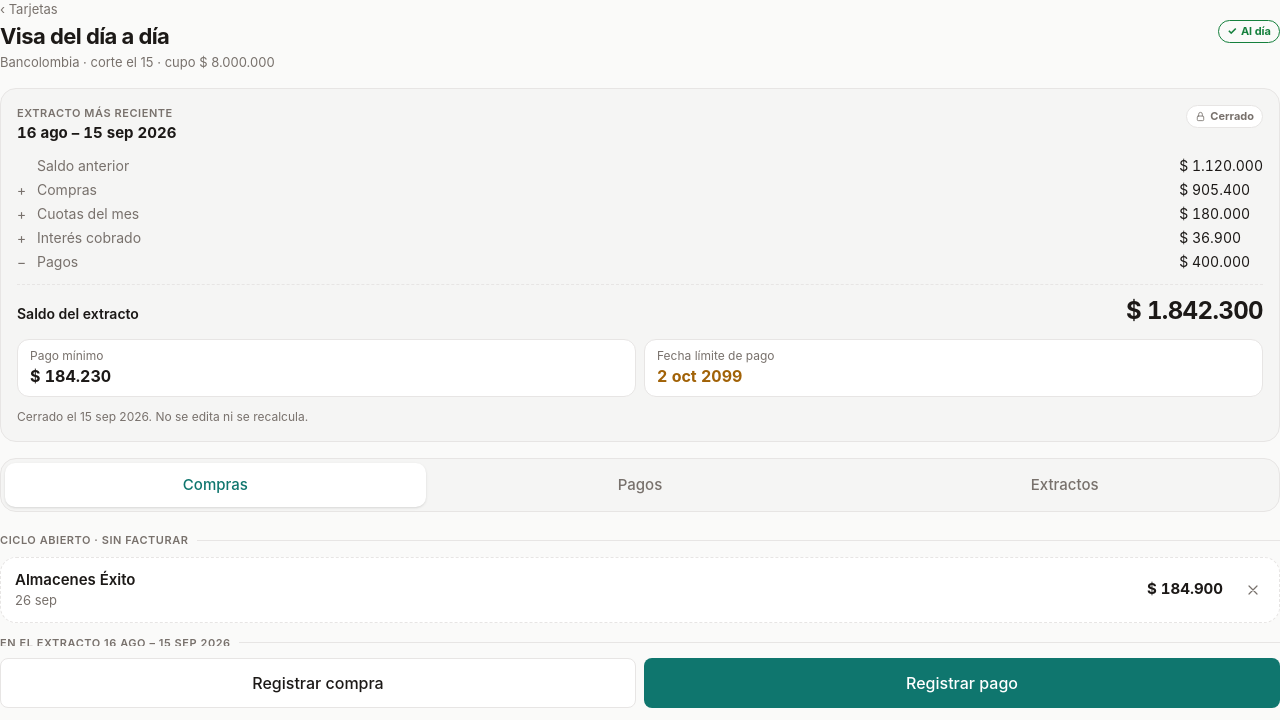
Scenario: CardDetailPage › switches to statements from the billed sheet and closes it
The image size is (1280, 720).
Click the button named "Borrar compra Almacenes Éxito".
click(1253, 590)  # box [1231,568,1275,612]
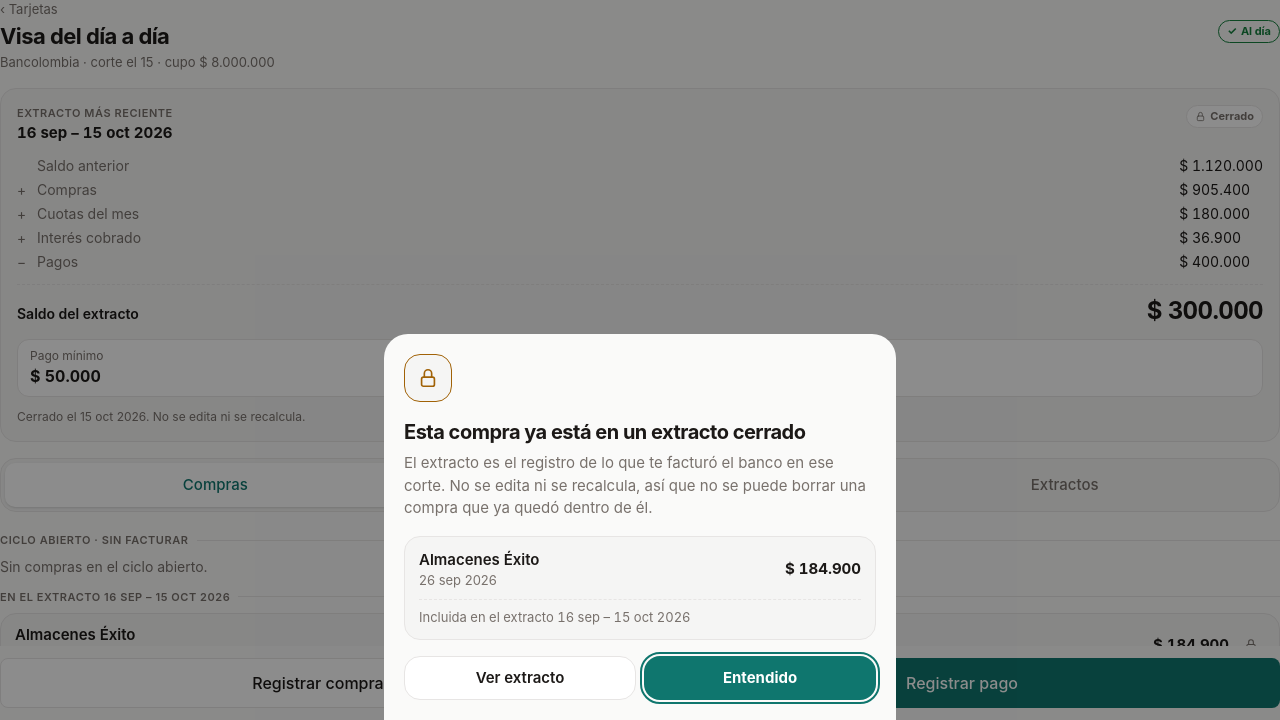
Click the button "Ver extracto".
click(520, 678)  # box [404,656,636,700]
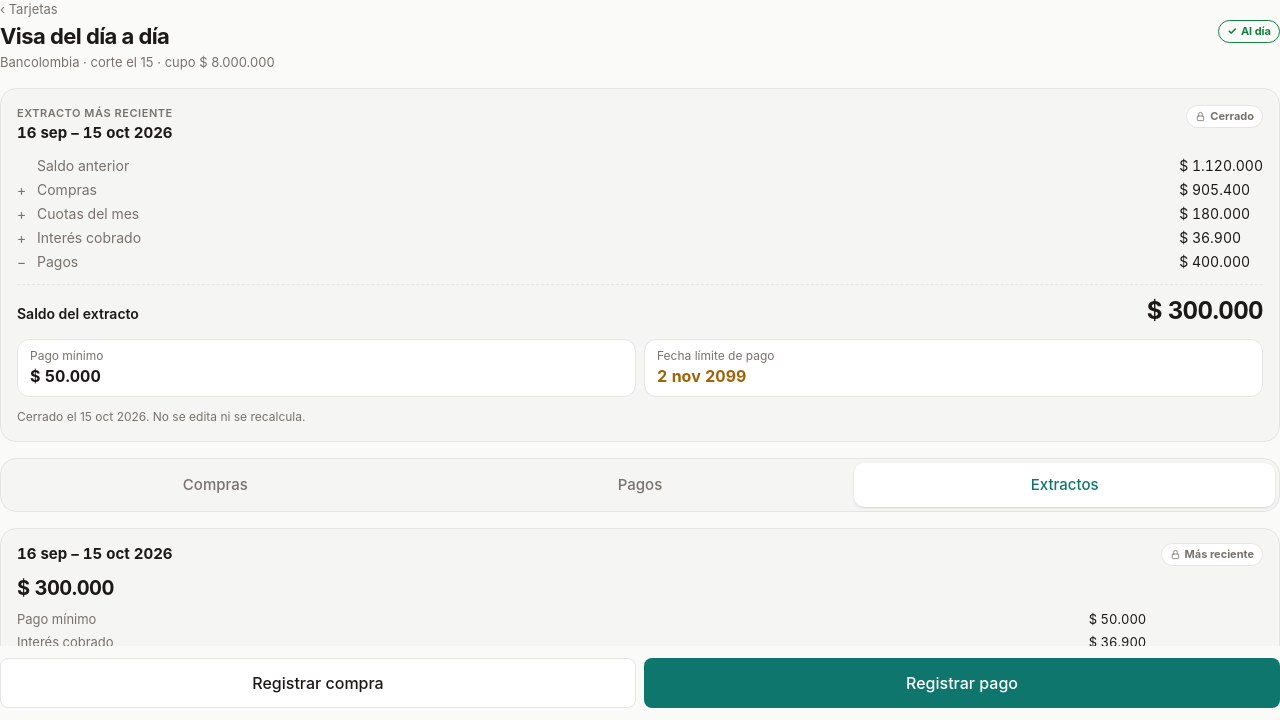
Check: the dialog is gone
